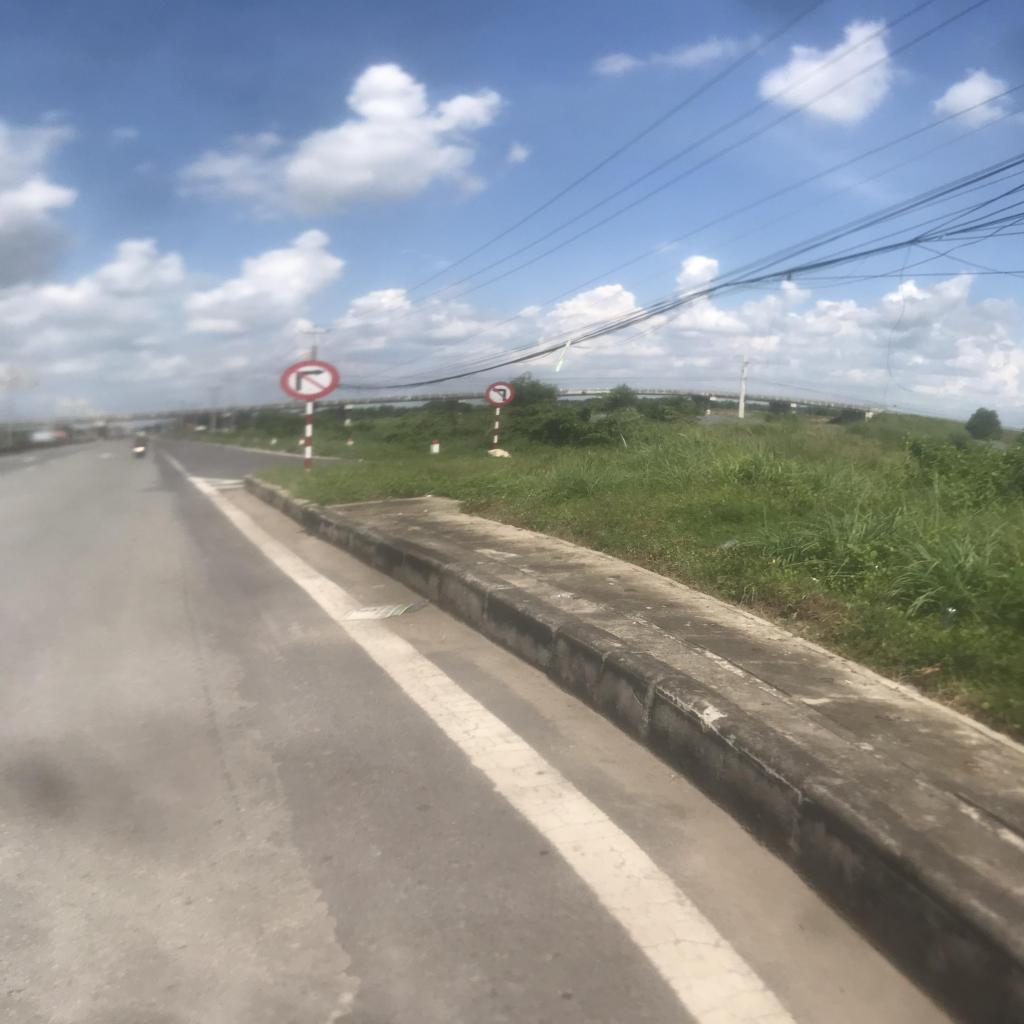cam_re_phai: (279, 361, 339, 400)
cam_re_trai: (485, 382, 515, 407)
